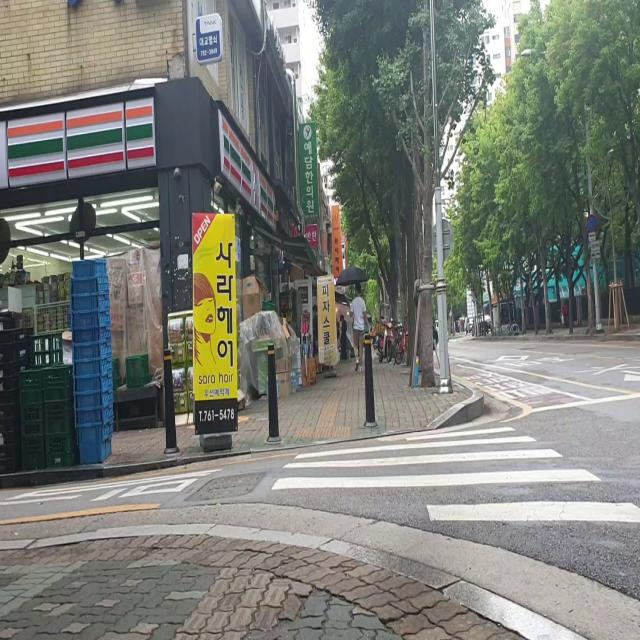횡단보도: (270, 424, 640, 524)
